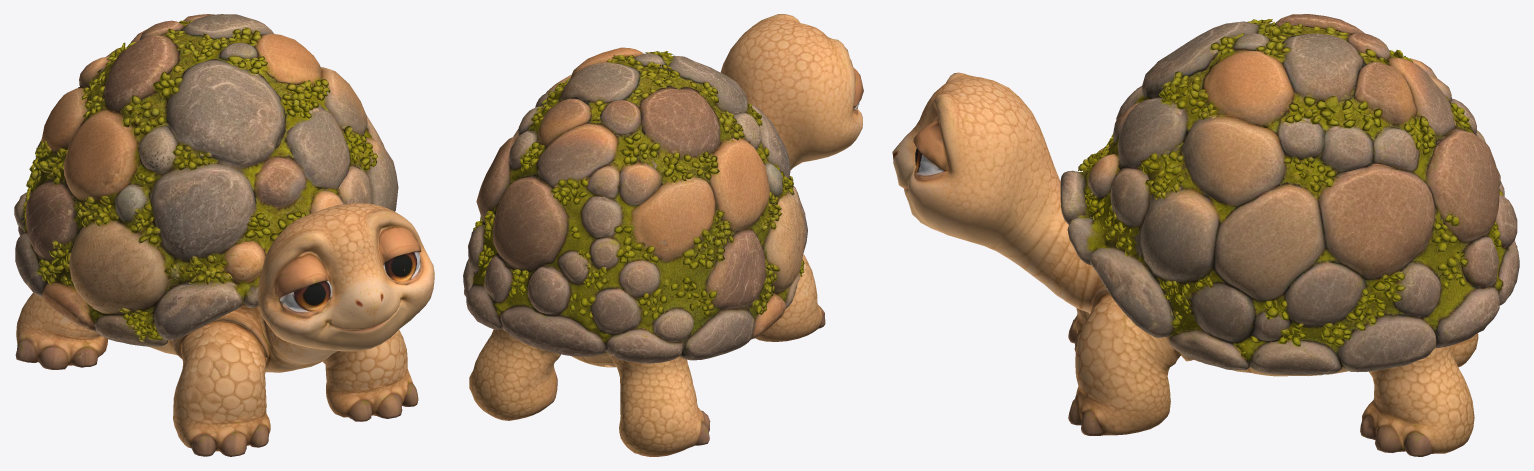
Rendered from pebbletort.glb.
3 views of the same model, side by side, from view 1: azimuth 30°, elevation 25°; view 2: azimuth 150°, elevation 25°; view 3: azimuth 270°, elevation 25° (orthographic). The views are drawn at different scales.
Visible parts, largest first — view 1: pebbletort; view 2: pebbletort; view 3: pebbletort.
Boxes of the visible parts, x1=… form: pebbletort: x1=14, y1=14, x2=434, y2=456; pebbletort: x1=463, y1=14, x2=863, y2=456; pebbletort: x1=892, y1=14, x2=1519, y2=456.
Bounding box in the file's own units: 0.9201 × 1 × 1.52.
Materials: 1 (1 with a texture image).
